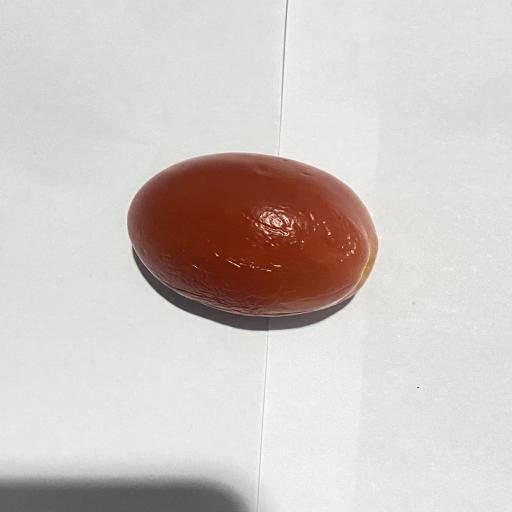spoiled: (128, 153, 377, 316)
